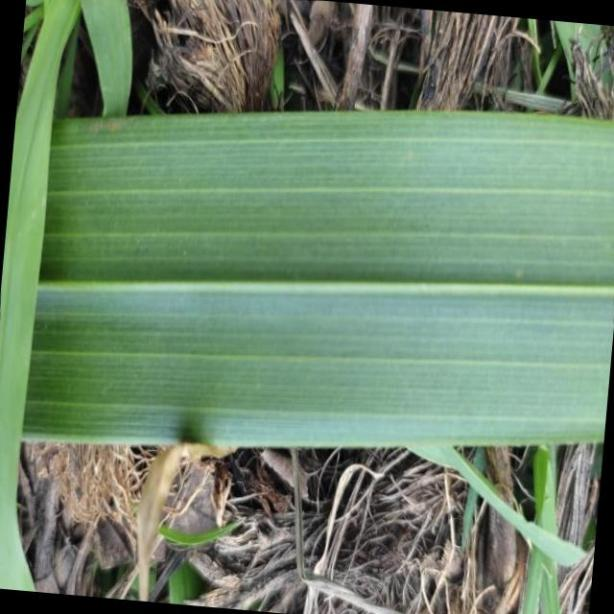Healthy: (0, 112, 614, 449)
